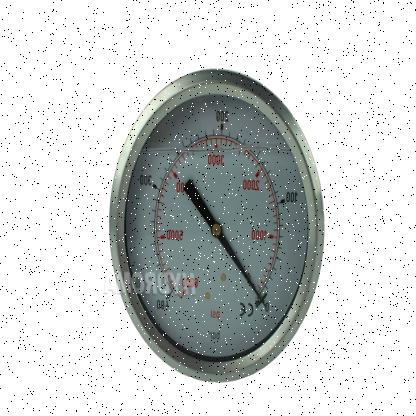needle: (217, 231, 267, 308)
